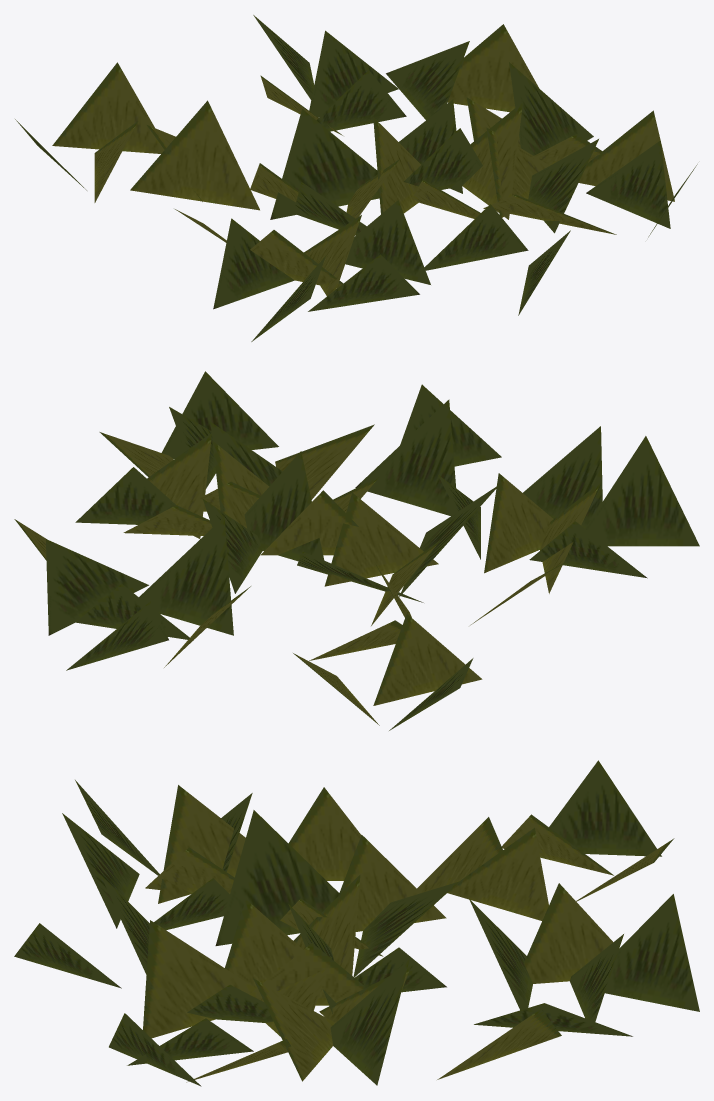
Rendered from dec_Ground_Grass_08_30245.glb.
3 renders of one model, top to bottom at view 1: azimuth 30°, elevation 25°; view 2: azimuth 150°, elevation 25°; view 3: azimuth 270°, elevation 25°, orthographic. The views are drawn at different scales.
Visible parts, largest first — view 1: Ground_Grass_08_mesh; view 2: Ground_Grass_08_mesh; view 3: Ground_Grass_08_mesh.
Boxes of the visible parts, left/top/right/bottom form: Ground_Grass_08_mesh: left=15, top=15, right=697, bottom=341; Ground_Grass_08_mesh: left=14, top=371, right=699, bottom=730; Ground_Grass_08_mesh: left=14, top=760, right=699, bottom=1086.
Bounding box in the file's own units: 1.79 × 0.2788 × 1.94.
Materials: 1 (1 with a texture image).
